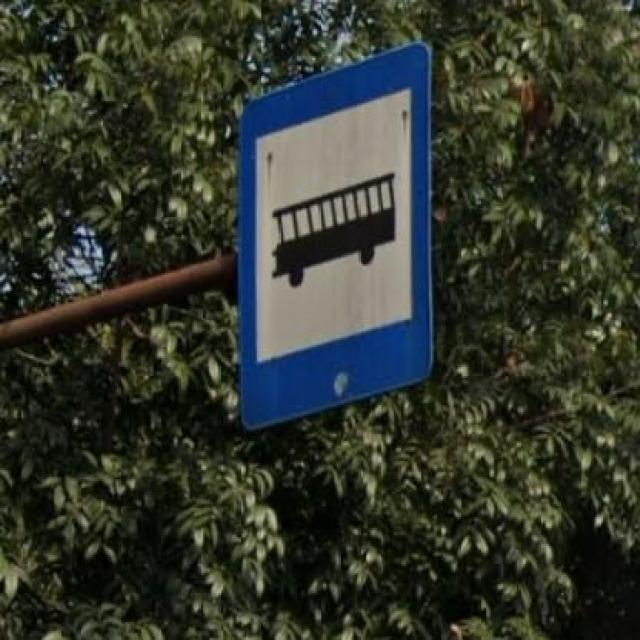traffic sign: (241, 38, 434, 428)
